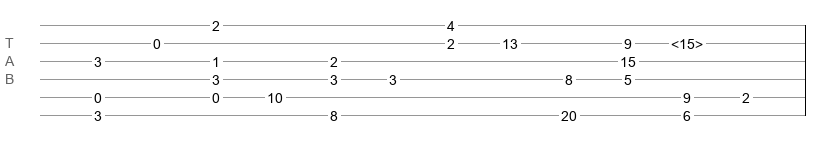0: (94, 90, 102, 100), (153, 36, 161, 46), (212, 90, 220, 100)
1: (212, 54, 220, 64)
10: (267, 90, 283, 100)
13: (502, 36, 518, 46)
15: (620, 54, 636, 64)
2: (212, 18, 220, 28), (330, 54, 338, 64), (447, 36, 455, 46), (742, 90, 750, 100)
20: (561, 108, 577, 118)
3: (94, 108, 102, 118), (94, 54, 102, 64), (212, 72, 220, 82), (330, 72, 338, 82), (389, 72, 397, 82)
4: (447, 18, 455, 28)
5: (624, 72, 632, 82)
6: (683, 108, 691, 118)
8: (330, 108, 338, 118), (565, 72, 573, 82)
9: (624, 36, 632, 46), (683, 90, 691, 100)
harmonic: (671, 36, 703, 46)
